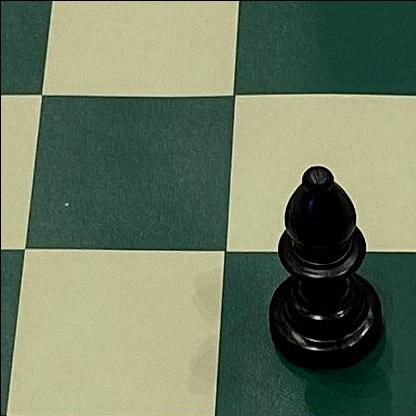black-bishop: (262, 162, 385, 372)
